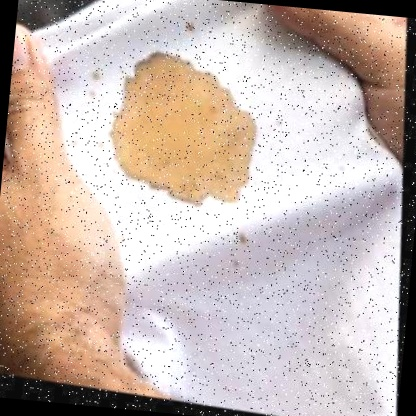coffee: (108, 49, 261, 206)
